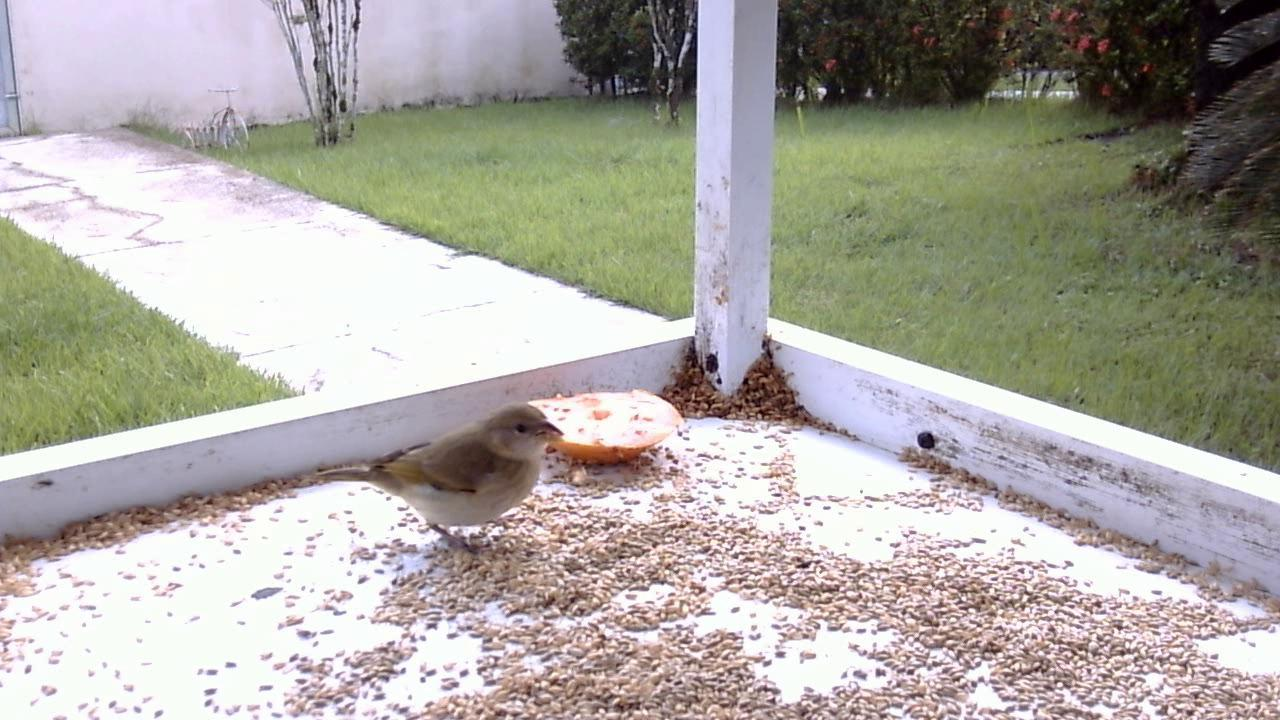canario_do_amazonas: (310, 403, 564, 557)
